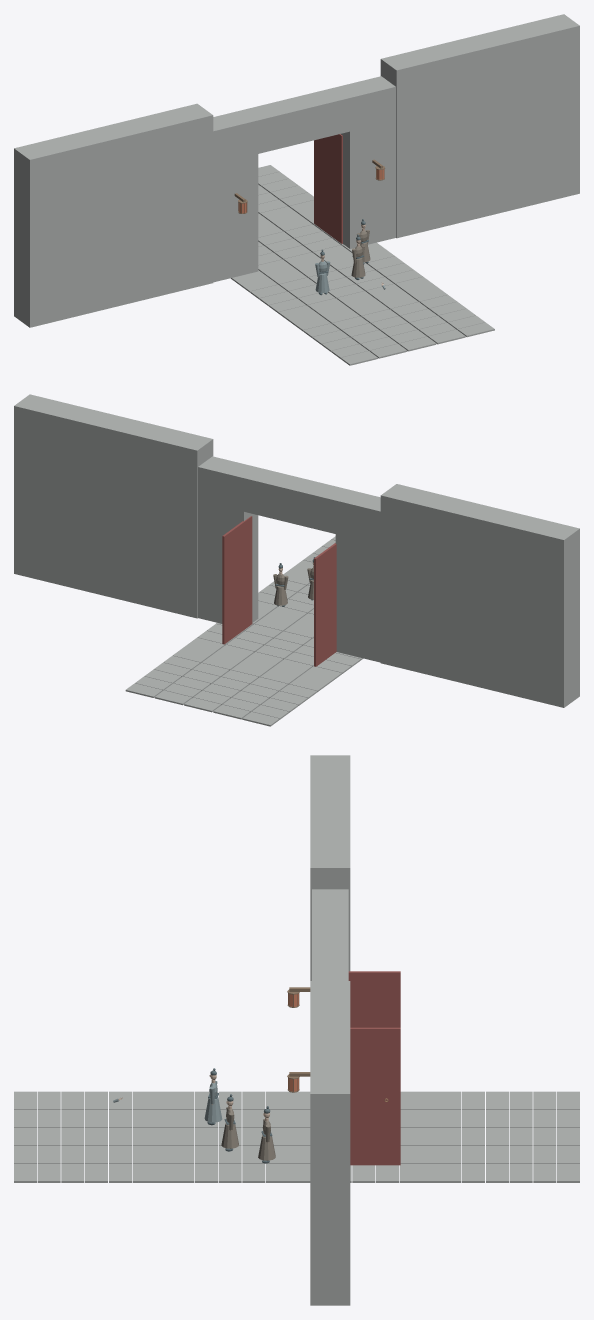
3 renders of one model, top to bottom at view 1: azimuth 30°, elevation 25°; view 2: azimuth 150°, elevation 25°; view 3: azimuth 270°, elevation 25°, orthographic. The views are drawn at different scales.
Parts seen in each view (by area): view 1: gatewall (×2), lintel, right_pier, left_pier, door_leaf; view 2: gatewall (×2), lintel, left_pier, door_leaf (×2), right_pier; view 3: gatewall (×2), door_leaf (×2), lintel.
Part boxes in pixels (left/top/right/bottom): gatewall (×2): left=14, top=14, right=579, bottom=327; lintel: left=213, top=76, right=395, bottom=164; right_pier: left=341, top=94, right=395, bottom=248; left_pier: left=213, top=129, right=258, bottom=282; door_leaf: left=314, top=134, right=342, bottom=243; gatewall (×2): left=14, top=394, right=579, bottom=707; lintel: left=198, top=456, right=380, bottom=544; left_pier: left=335, top=509, right=380, bottom=662; door_leaf (×2): left=222, top=516, right=336, bottom=666; right_pier: left=198, top=474, right=258, bottom=623; gatewall (×2): left=310, top=755, right=350, bottom=1305; door_leaf (×2): left=348, top=971, right=400, bottom=1165; lintel: left=312, top=889, right=348, bottom=980.
Bounding box in the file's own units: 24 × 7.06 × 16.95.
